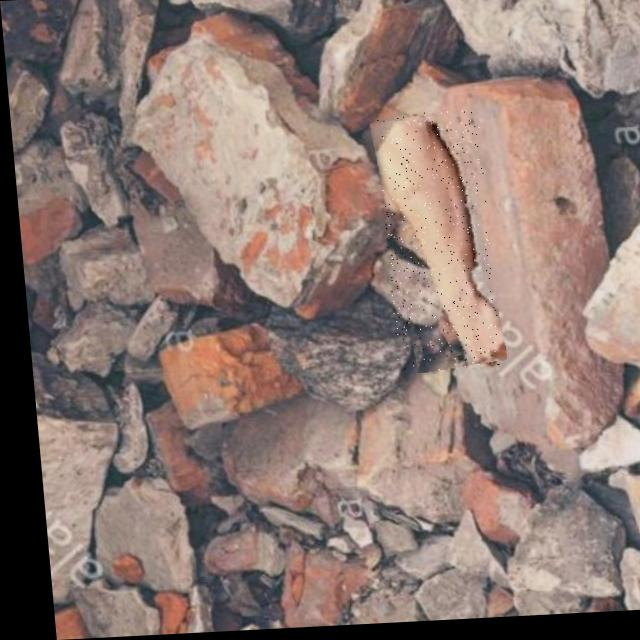Person in Rubble: (373, 114, 494, 375)
